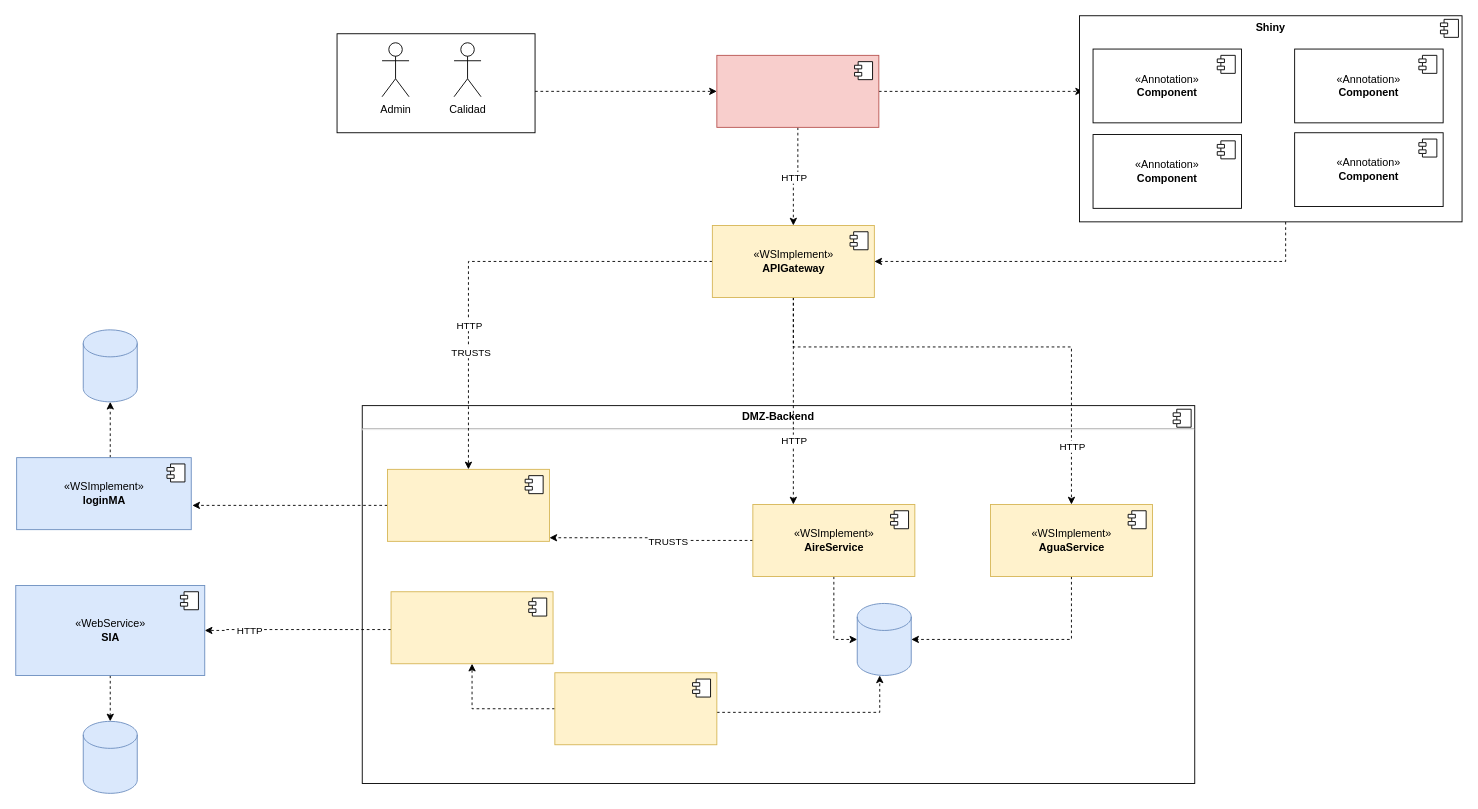
The diagram is 1478 pixels wide and 809 high, and some of its shapes have lost their labels. The centre of each missing label's shape, as x and y in pixels:
Adminis: the point at 109,365
DatosDB MySQL: the point at 883,639
SIA DB: the point at 109,756
«Frontend» Angular: the point at 797,90
«Process» CronJobs: the point at 635,708
«WSImplement» AdapterService: the point at 471,627
«WSImplement» AuthService: the point at 468,504
